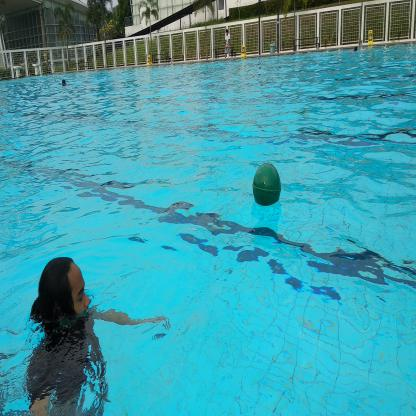green_buoy: (250, 158, 284, 213)
